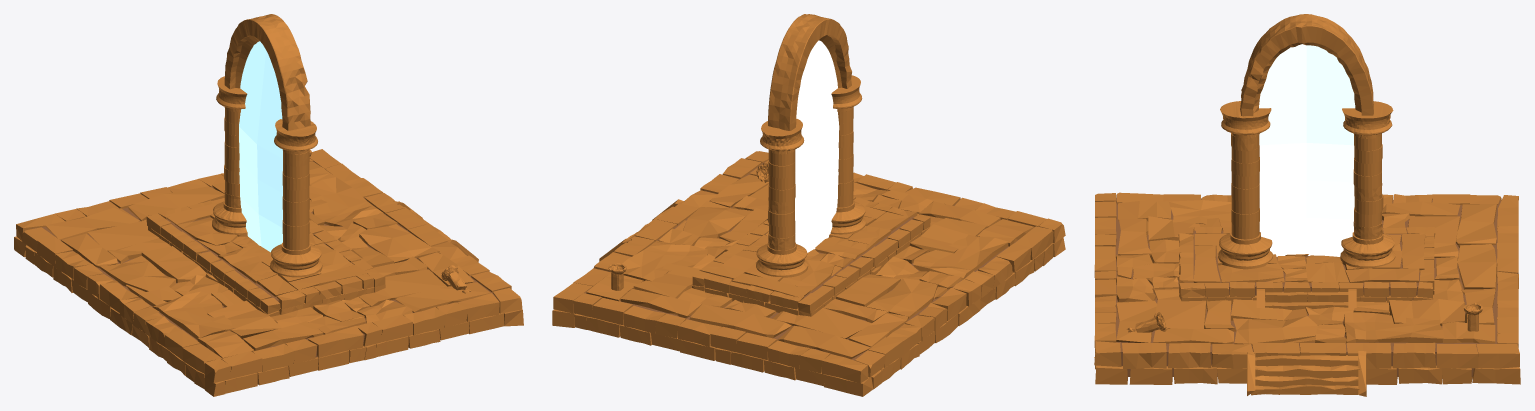
Rendered from Big Portal_GAME_READY.fbx.
3 views of the same model, side by side, from view 1: azimuth 30°, elevation 25°; view 2: azimuth 150°, elevation 25°; view 3: azimuth 270°, elevation 25° (orthographic). The views are drawn at different scales.
Visible parts, largest first — view 1: Cube.025, Cylinder.019, Cube.020, Cube.023, Portal, Cube.019, Cube.017, Cube.013, Cube.022, Cube.015, Cube.014, Cube; view 2: Cube.025, Cylinder.019, Cube.022, Cube.023, Portal, Cube.019, Cube.017, Cube.013, Cube.020, Cube.016, Cube.014, Cube; view 3: Cube.025, Portal, Cylinder.019, Cube.017, Cube.019, Cube.007, Cube.014, Cube.020, Cube.022, Cube.023, Cube, Cube.010 (+6 smaller).
Boxes of the visible parts, bbox=[...] form: Cube.025: bbox=[46, 161, 490, 358]; Cylinder.019: bbox=[212, 14, 322, 277]; Cube.020: bbox=[205, 293, 503, 396]; Cube.023: bbox=[22, 227, 222, 389]; Portal: bbox=[239, 41, 282, 252]; Cube.019: bbox=[165, 201, 368, 296]; Cube.017: bbox=[309, 149, 523, 326]; Cube.013: bbox=[146, 213, 280, 316]; Cube.022: bbox=[14, 158, 313, 257]; Cube.015: bbox=[276, 273, 373, 314]; Cube.014: bbox=[309, 221, 385, 292]; Cube: bbox=[32, 161, 498, 376]; Cube.025: bbox=[586, 160, 1034, 359]; Cylinder.019: bbox=[756, 14, 866, 278]; Cube.022: bbox=[573, 293, 873, 396]; Cube.023: bbox=[854, 226, 1053, 389]; Portal: bbox=[795, 40, 839, 252]; Cube.019: bbox=[711, 205, 908, 297]; Cube.017: bbox=[552, 151, 768, 327]; Cube.013: bbox=[797, 214, 930, 316]; Cube.020: bbox=[767, 160, 1065, 256]; Cube.016: bbox=[704, 274, 804, 315]; Cube.014: bbox=[692, 220, 768, 291]; Cube: bbox=[575, 162, 1020, 360]; Cube.025: bbox=[1116, 200, 1496, 344]; Portal: bbox=[1259, 44, 1355, 256]; Cylinder.019: bbox=[1218, 14, 1395, 269]; Cube.017: bbox=[1094, 341, 1520, 384]; Cube.019: bbox=[1193, 233, 1425, 282]; Cube.007: bbox=[1247, 351, 1366, 396]; Cube.014: bbox=[1179, 282, 1433, 304]; Cube.020: bbox=[1094, 193, 1116, 369]; Cube.022: bbox=[1497, 195, 1518, 347]; Cube.023: bbox=[1116, 192, 1501, 204]; Cube: bbox=[1115, 197, 1500, 376]; Cube.010: bbox=[1256, 289, 1356, 310].
Bounding box in the file's own units: 1477 × 1131 × 1534.
